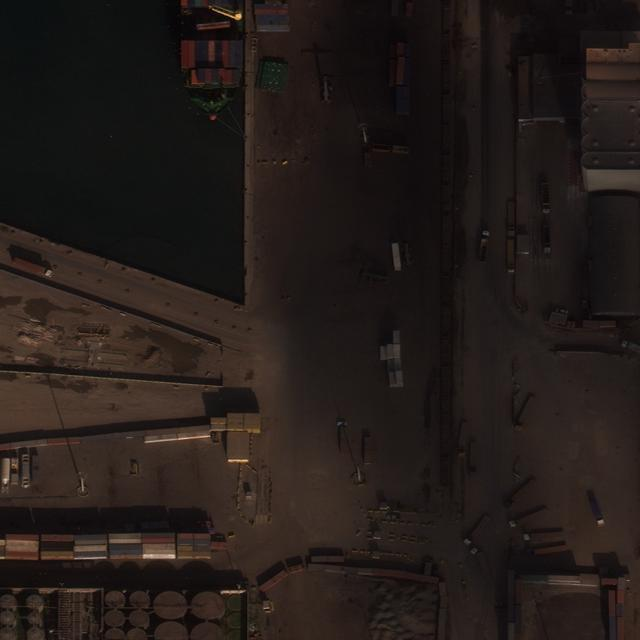Container Ship: (178, 3, 245, 126)
